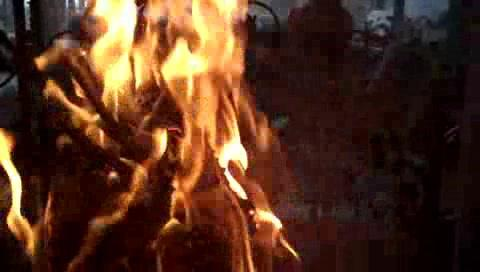fire: (48, 22, 258, 263)
